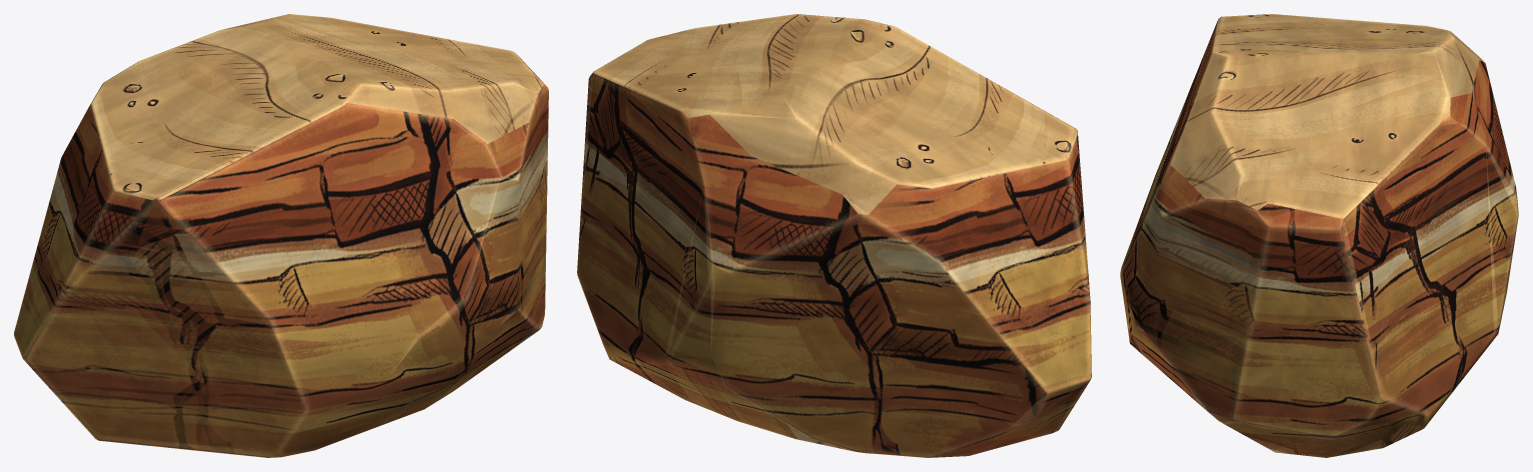
Rendered from rock_05.glb.
3 views of the same model, side by side, from view 1: azimuth 30°, elevation 25°; view 2: azimuth 150°, elevation 25°; view 3: azimuth 270°, elevation 25° (orthographic). The views are drawn at different scales.
Visible parts, largest first — view 1: rock_05; view 2: rock_05; view 3: rock_05.
Part boxes in pixels (bbox=[...]): rock_05: bbox=[14, 14, 548, 457]; rock_05: bbox=[577, 14, 1091, 457]; rock_05: bbox=[1120, 14, 1518, 457].
Size of the model in its own units: 1.6 by 0.9998 by 1.12.
1 material, 1 textured.
